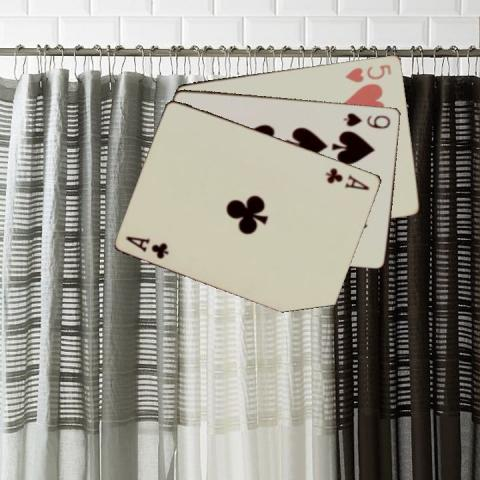5h: (342, 61, 392, 84)
9s: (341, 109, 392, 130)
Ac: (123, 233, 171, 260), (323, 165, 371, 191)
